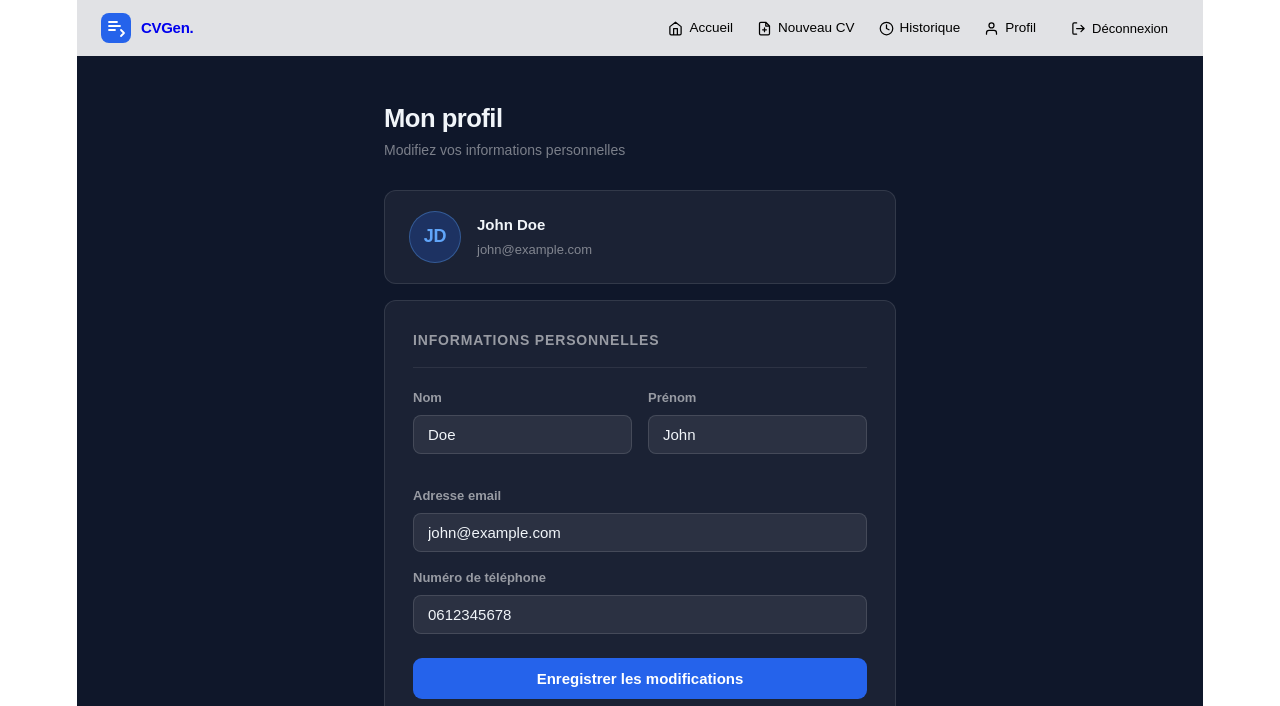
it: Page Profil › affiche des erreurs si on essaye de sauvegarder avec des champs vides
The image size is (1280, 706).
On vide les champs
Clear the 1st field showing "Doe" at [522, 434], box top-left (413, 415), bottom-right (632, 454)
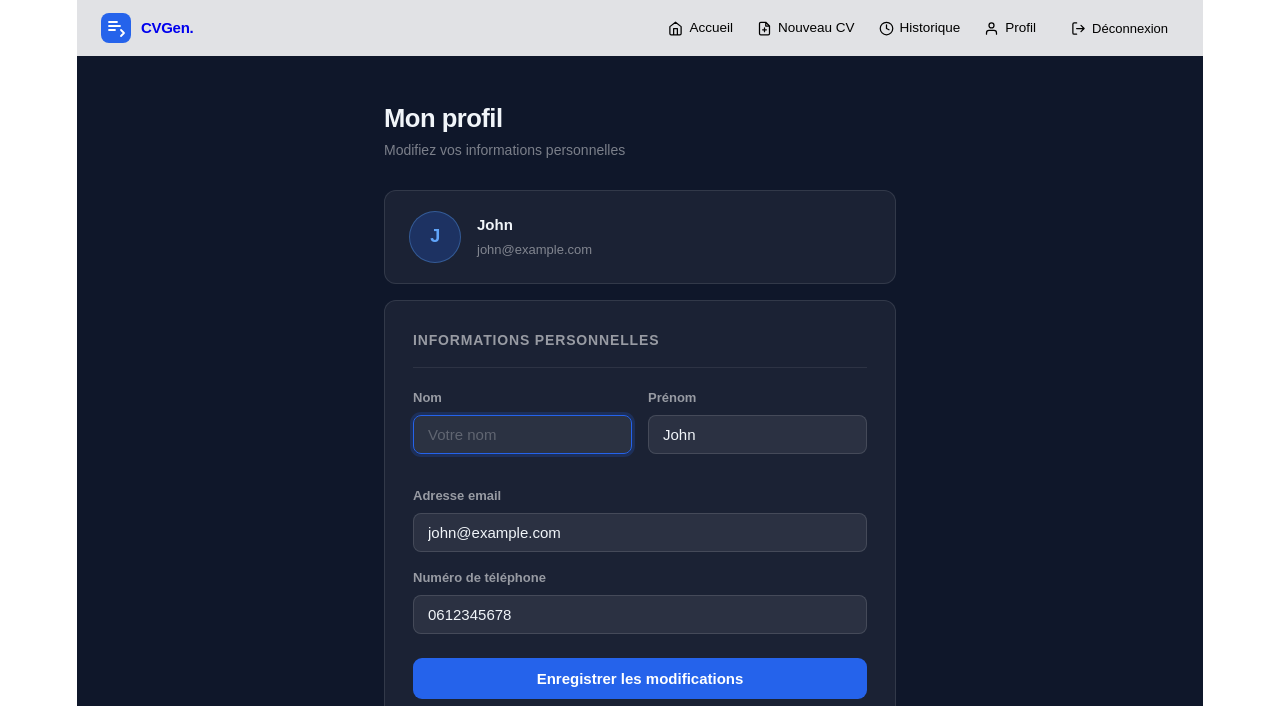
Clear the field showing "John" below "Prénom" at [758, 434], box top-left (648, 415), bottom-right (867, 454)
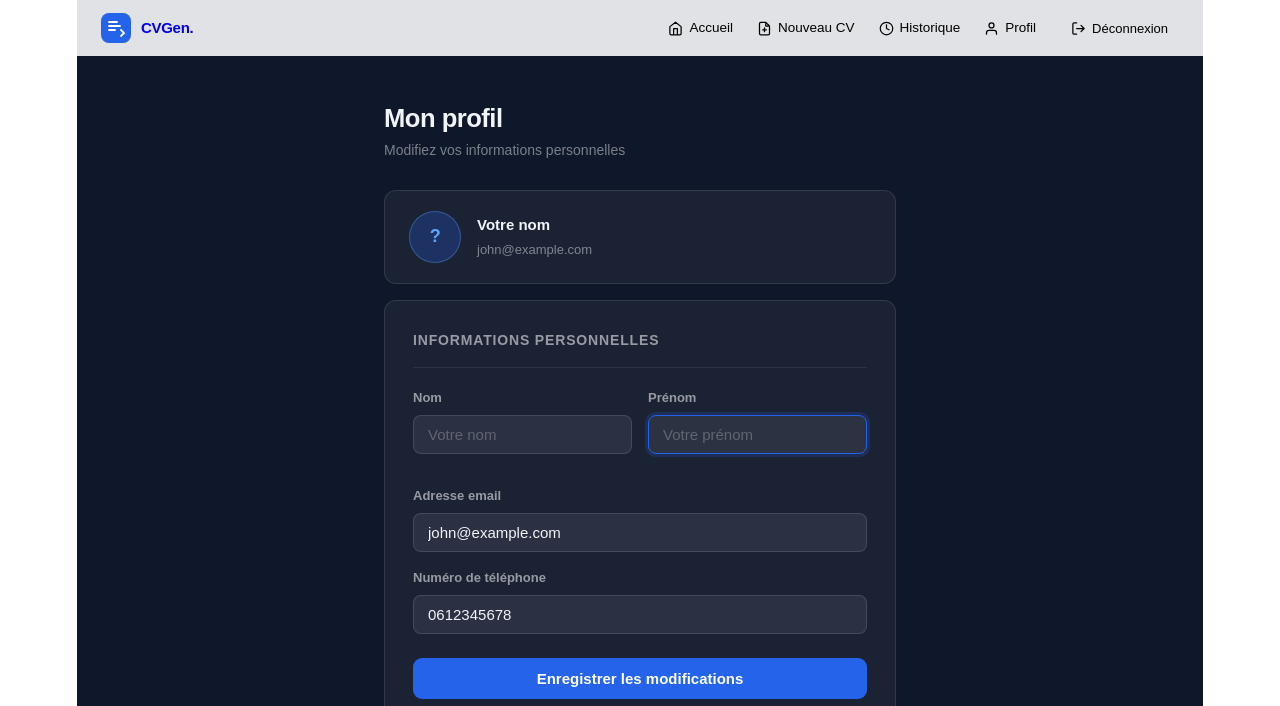
Clear the field showing "0612345678" below "Numéro de téléphone" at [640, 614], box top-left (413, 595), bottom-right (867, 634)
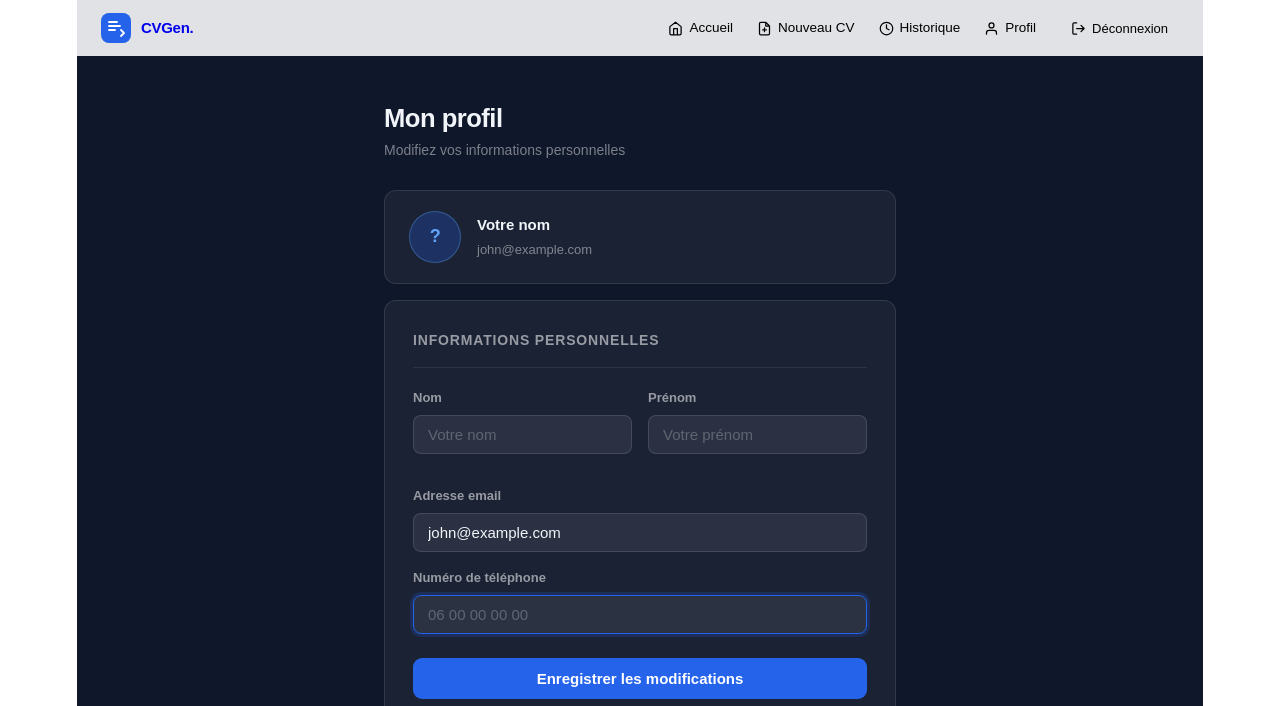
Click the button "Enregistrer les modifications" at [640, 678], box top-left (413, 658), bottom-right (867, 699)
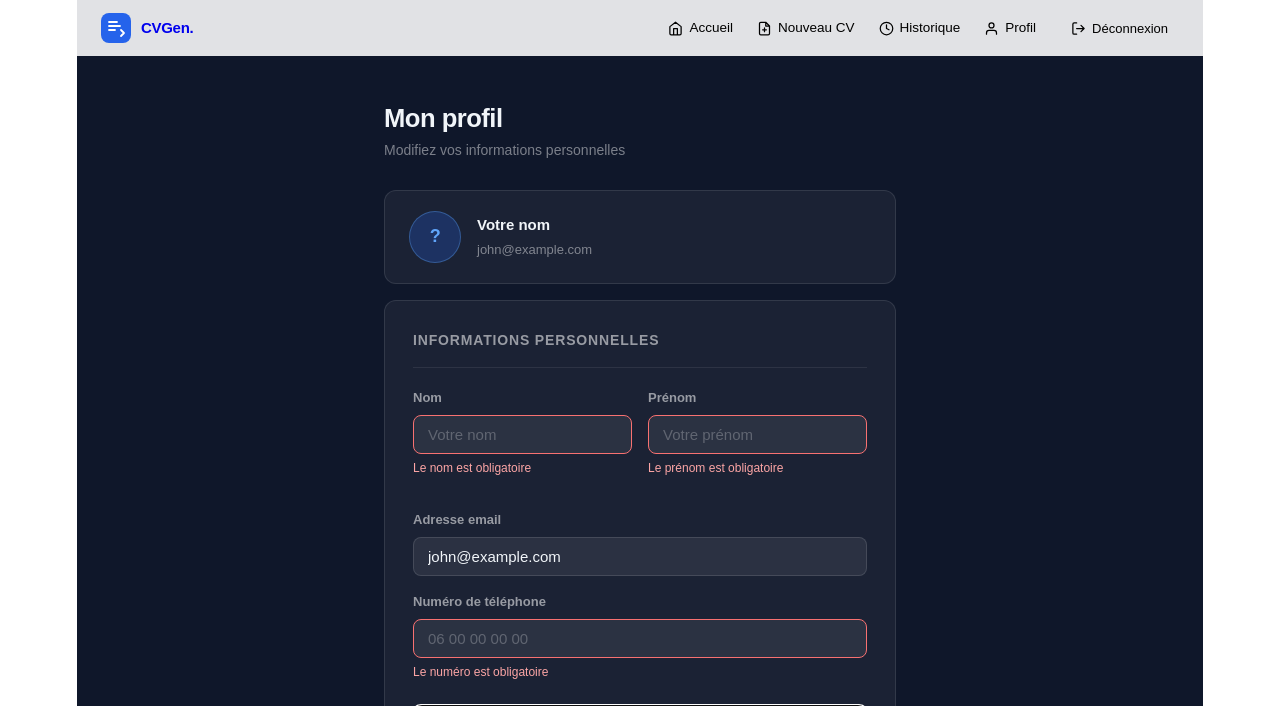
expect the text "Le nom est obligatoire" is shown: met, box top-left (413, 461), bottom-right (531, 475)
expect the text "Le prénom est obligatoire" is shown: met, box top-left (648, 461), bottom-right (783, 475)
expect the text "Le numéro est obligatoire" is shown: met, box top-left (413, 665), bottom-right (548, 679)
